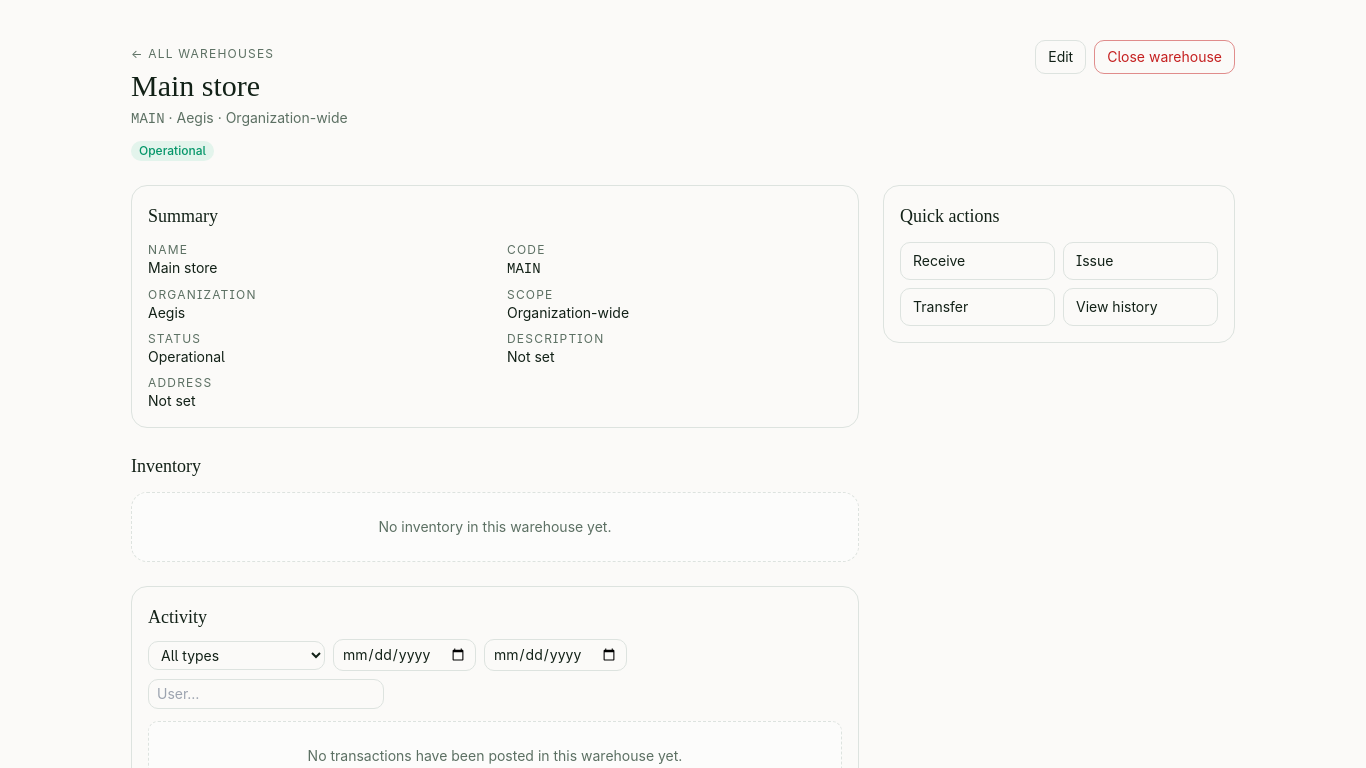
Scenario: Warehouse edit / close / reopen › edits name / description / status via PATCH and rehydrates the header
Check: the heading with test id "warehouse-header-name" reads "Main store", box top-left (131, 69), bottom-right (260, 102)
Click the button with test id "warehouse-header-edit" at point(1061, 57), box top-left (1035, 40), bottom-right (1086, 74)
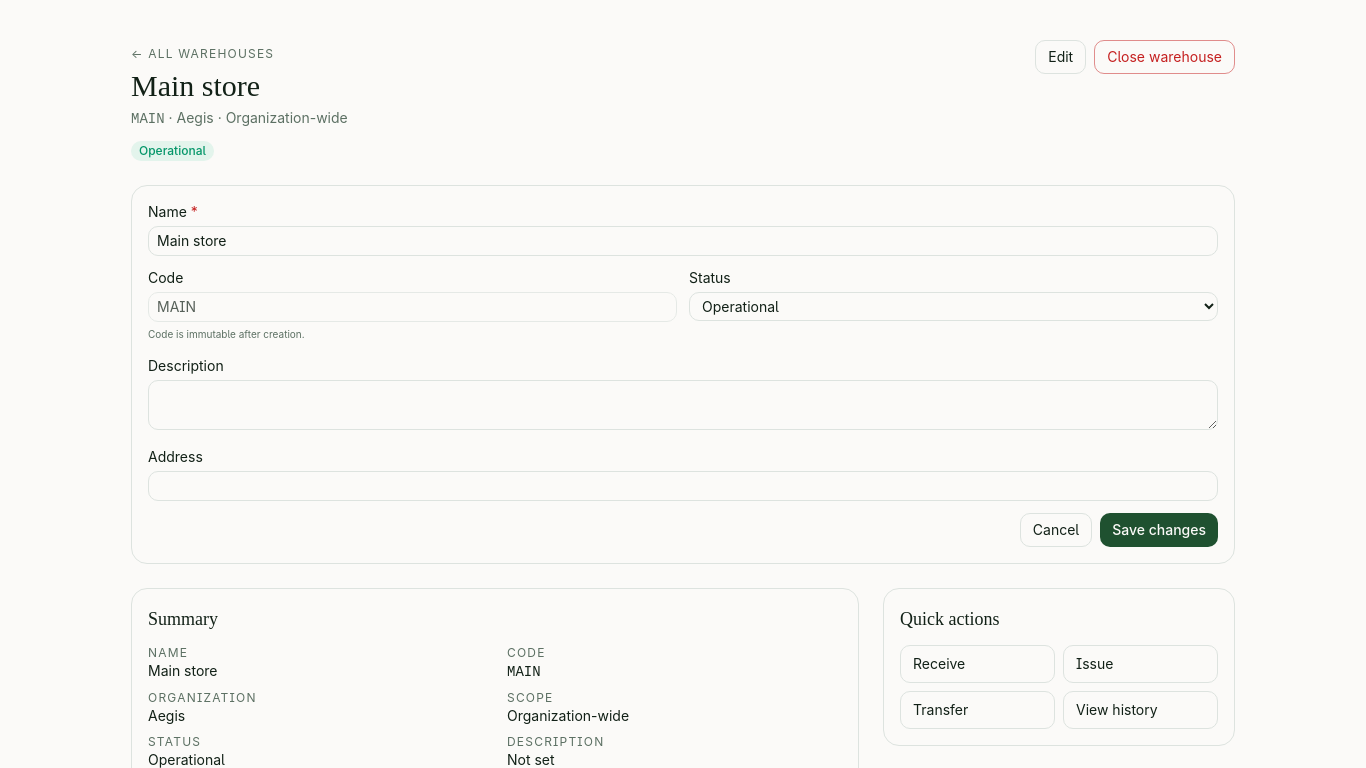
Replace the text in the field with test id "warehouse-form-edit-name" with "Main STORE — renamed" at point(683, 241), box top-left (148, 226), bottom-right (1218, 256)
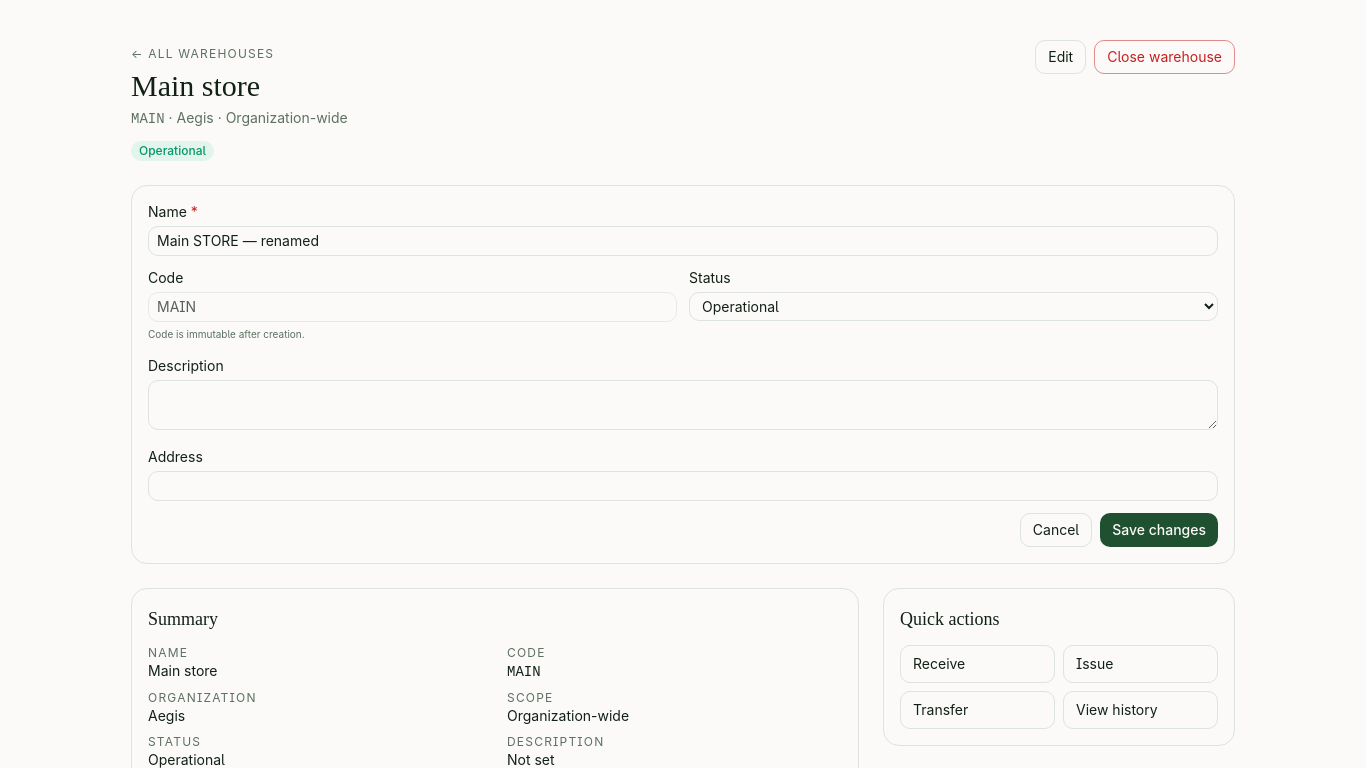
Type "Renamed by test." into the text box with test id "warehouse-form-edit-description" at point(683, 405), box top-left (148, 380), bottom-right (1218, 430)
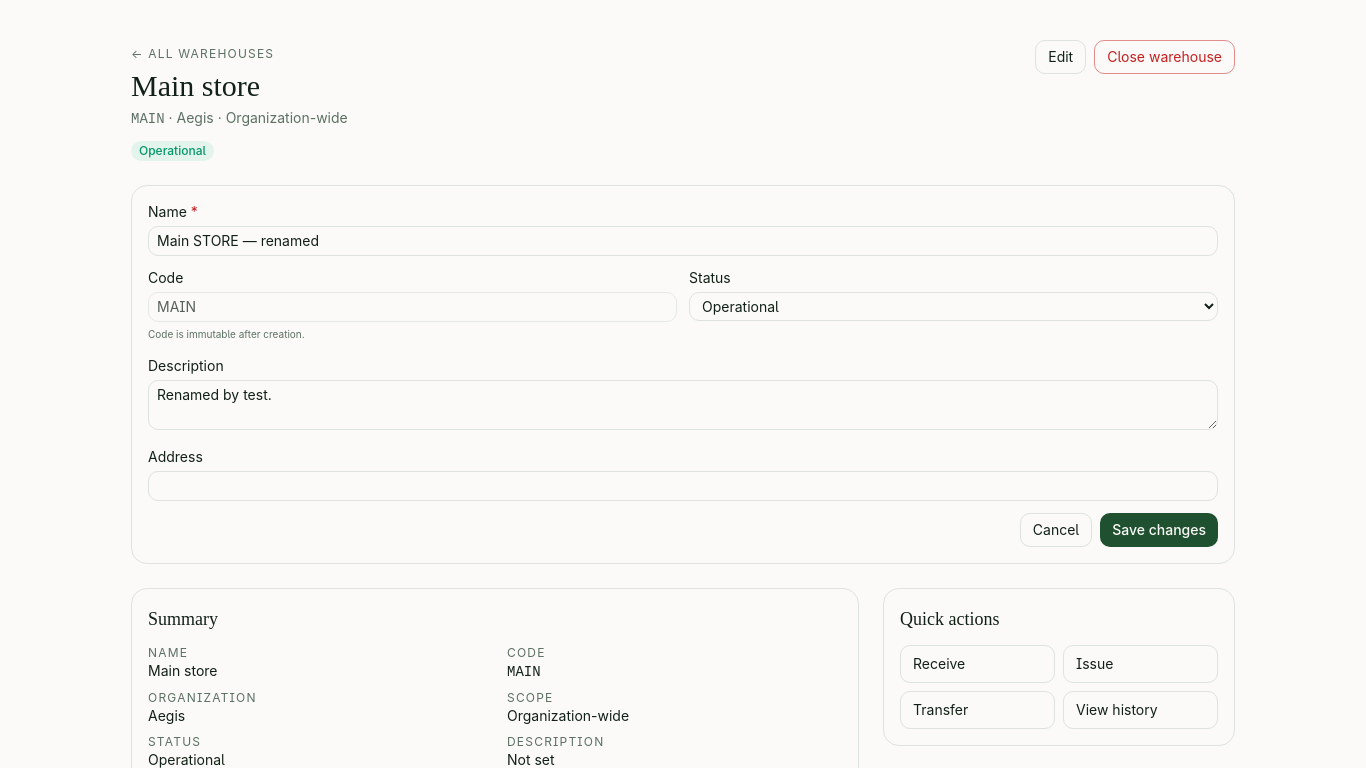
Select "Maintenance" in the dropdown with test id "warehouse-form-edit-status" at point(954, 306), box top-left (689, 292), bottom-right (1218, 321)
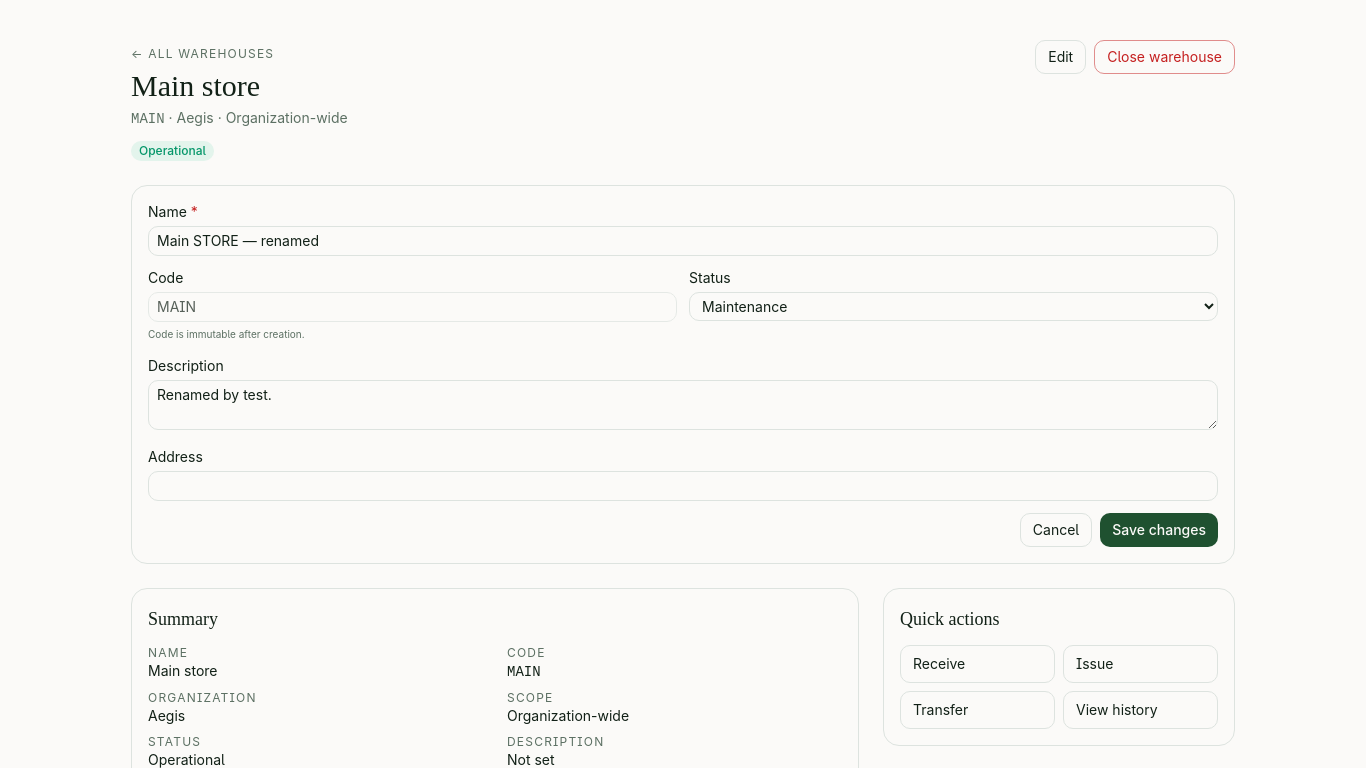
Click the button with test id "warehouse-form-edit-submit" at point(1159, 530), box top-left (1100, 513), bottom-right (1218, 547)
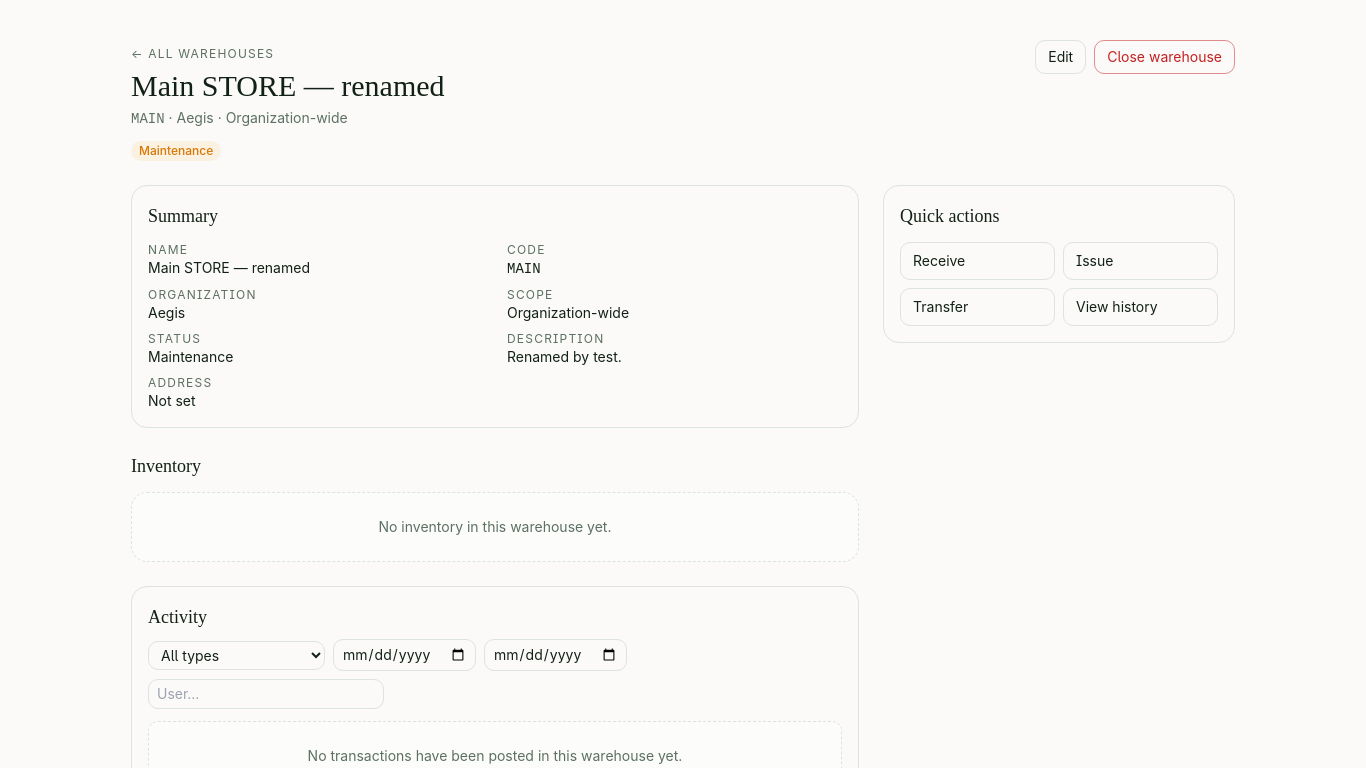
Check: the heading with test id "warehouse-header-name" reads "Main STORE — renamed", box top-left (131, 69), bottom-right (445, 102)
Immutable code field is disabled in edit mode.
Click the button with test id "warehouse-header-edit" at point(1061, 57), box top-left (1035, 40), bottom-right (1086, 74)
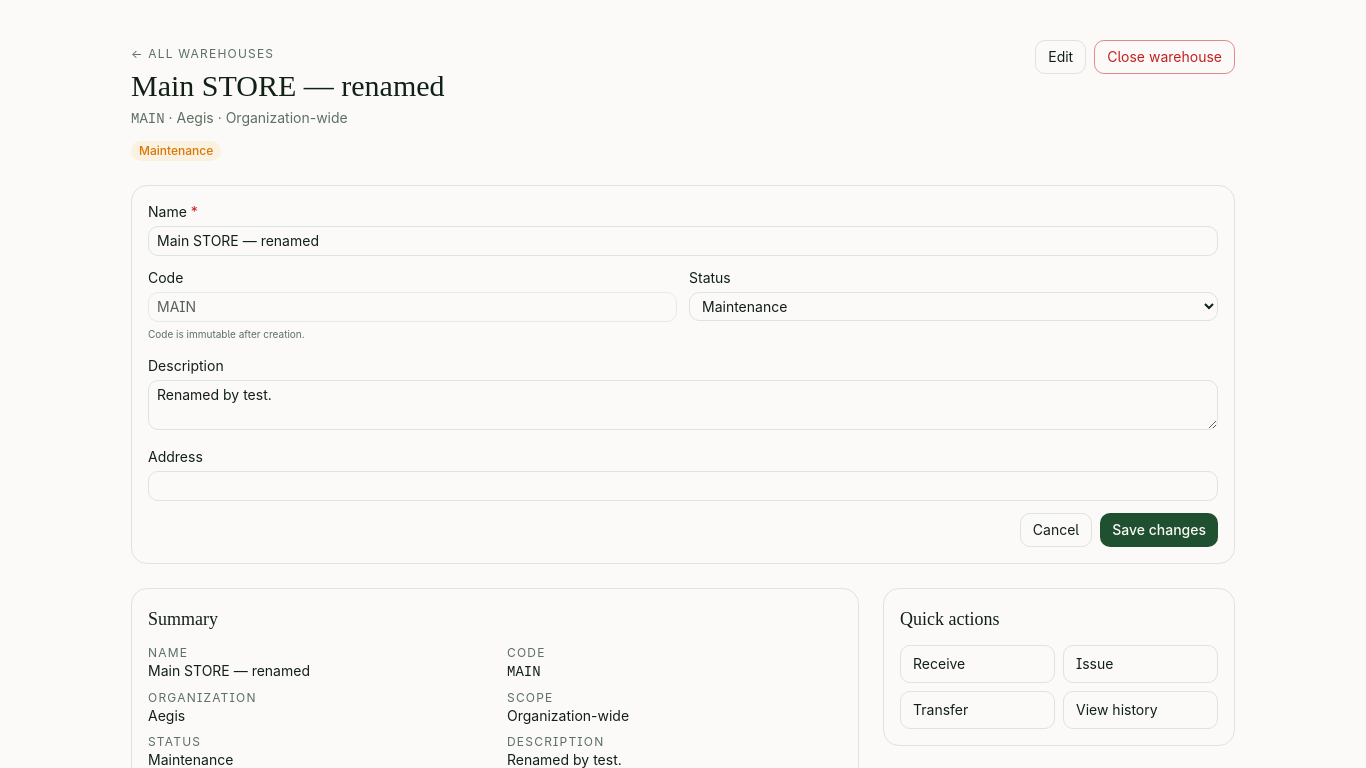
Check: the field with test id "warehouse-form-edit-code" is disabled, box top-left (148, 292), bottom-right (677, 322)
